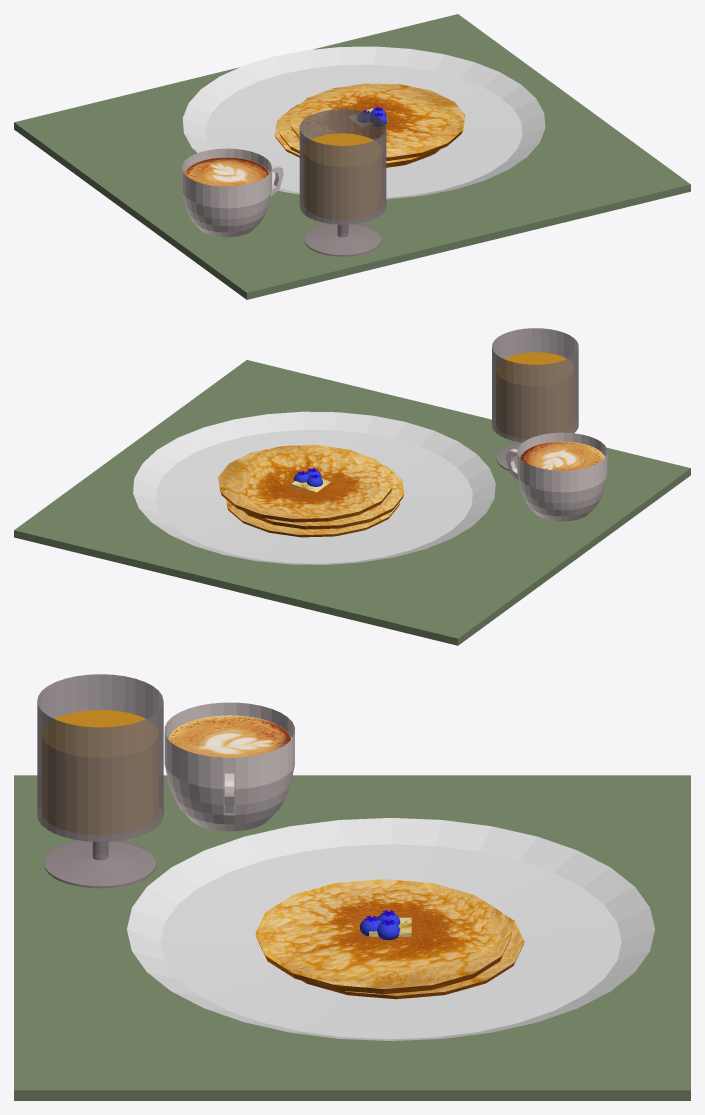
File: menu3America.glb
3 renders of one model, top to bottom at view 1: azimuth 30°, elevation 25°; view 2: azimuth 150°, elevation 25°; view 3: azimuth 270°, elevation 25°, orthographic. The views are drawn at different scales.
Visible parts, largest first — view 1: Cube, Cylinder, Cylinder.010, Sphere.003, Cylinder.011, Circle, Cylinder.012, Sphere.002; view 2: Cube, Cylinder, Sphere.003, Cylinder.010, Cylinder.011, Circle, Cylinder.012, Sphere.002, Sphere.001; view 3: Cube, Cylinder, Cylinder.010, Sphere.003, Cylinder.011, Circle, Cylinder.012, Sphere.001.
Boxes of the visible parts, box(x1,y1,x2,y2) form: Cube: box(14, 14, 690, 299); Cylinder: box(182, 46, 545, 199); Cylinder.010: box(299, 109, 386, 256); Sphere.003: box(290, 83, 465, 160); Cylinder.011: box(304, 133, 381, 219); Circle: box(181, 148, 283, 237); Cylinder.012: box(184, 157, 269, 186); Sphere.002: box(279, 103, 440, 166); Cube: box(14, 360, 690, 645); Cylinder: box(133, 411, 495, 564); Sphere.003: box(218, 445, 392, 522); Cylinder.010: box(492, 328, 578, 470); Cylinder.011: box(496, 352, 573, 438); Circle: box(506, 432, 607, 521); Cylinder.012: box(519, 441, 605, 470); Sphere.002: box(243, 465, 404, 529); Sphere.001: box(226, 499, 399, 537); Cube: box(14, 775, 690, 1100); Cylinder: box(127, 818, 654, 1040); Cylinder.010: box(37, 674, 163, 888); Sphere.003: box(255, 880, 511, 994); Cylinder.011: box(42, 710, 158, 834); Circle: box(164, 702, 294, 831); Cylinder.012: box(167, 715, 292, 757); Sphere.001: box(302, 913, 524, 999).
Bounding box in the file's own units: 22.67 × 5.85 × 20.59.
20 materials, 6 textured.
